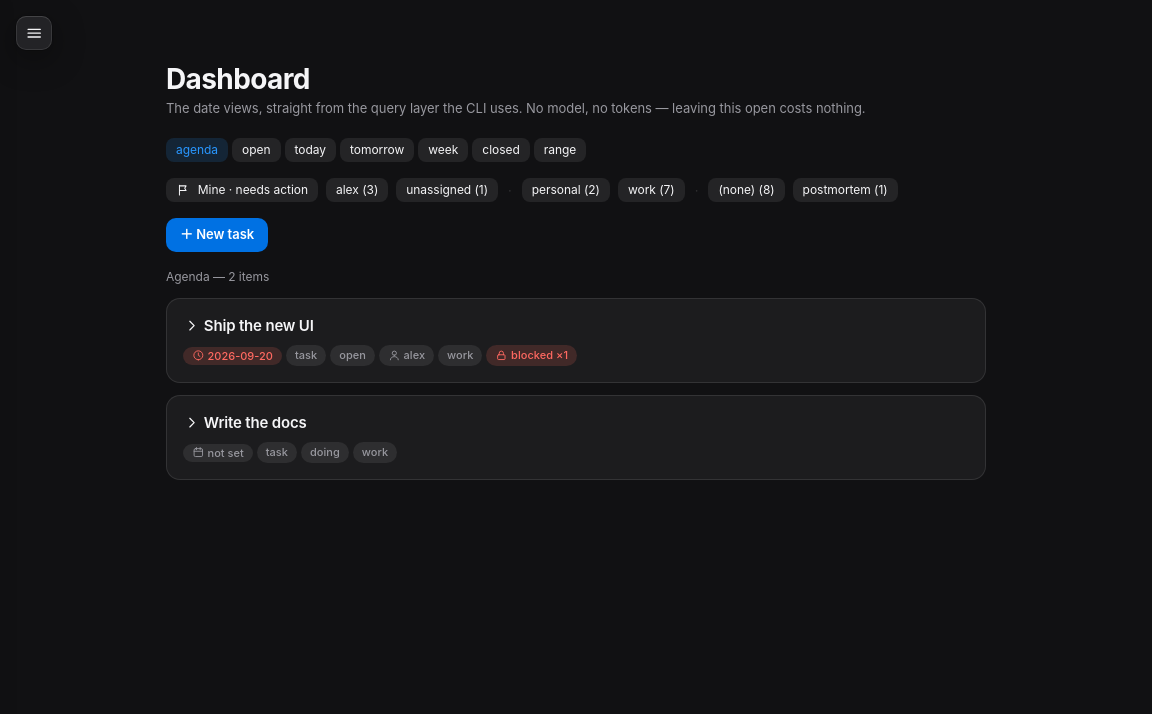
Test: the app shell › puts the create button only where contracts are authored
The image size is (1152, 714).
Expected: the heading "Dashboard" is shown, [166,64,310,95]
Click the button named "sections" at (34, 33), box [16,16,52,50]
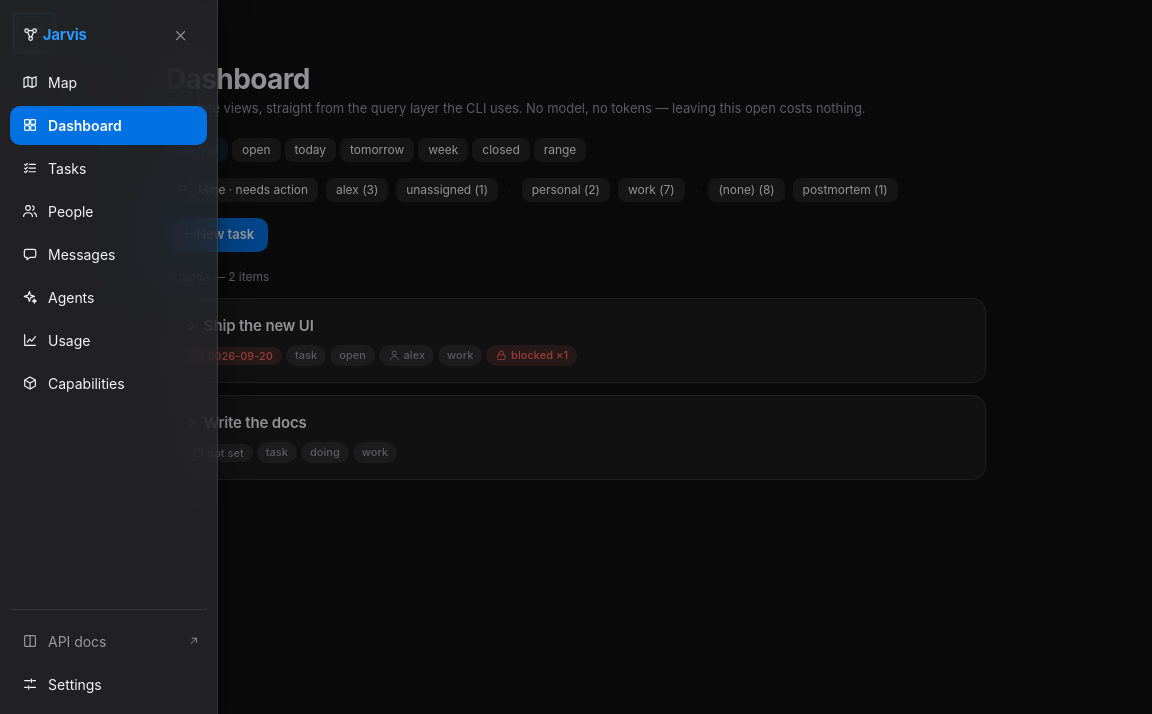
Click the link "Capabilities" at (73, 383), box [22,374,125,392]
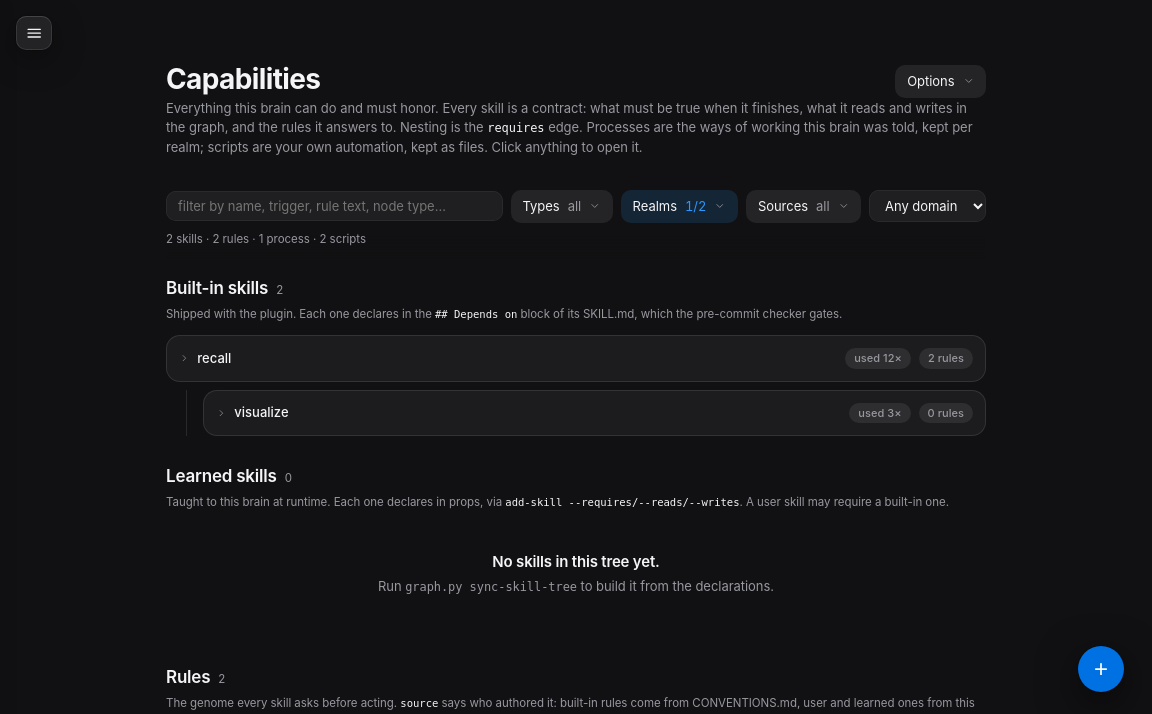
Result: the button named "create a process, a skill or a rule" is shown at [1078,646,1124,692]
